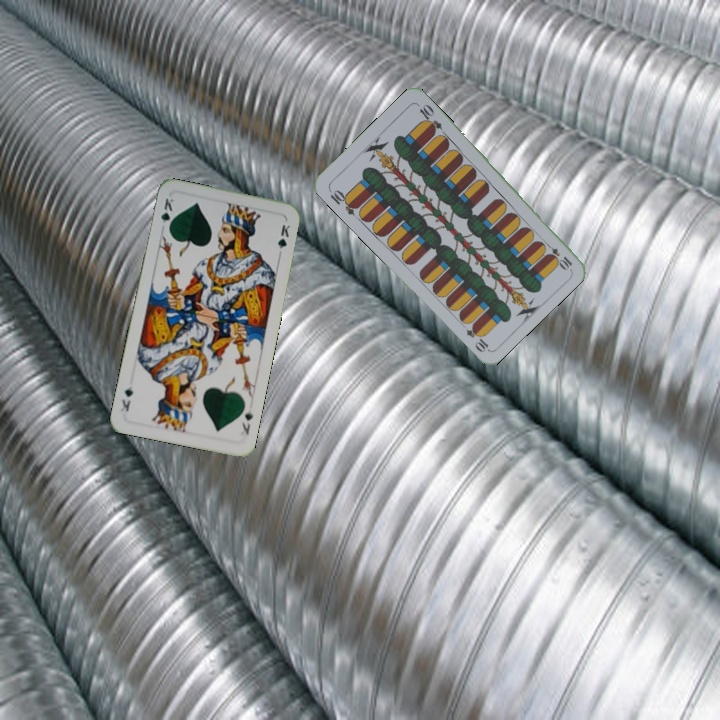E10: (540, 238, 575, 272), (325, 185, 361, 218)
GK: (157, 194, 177, 234), (236, 405, 255, 438)
